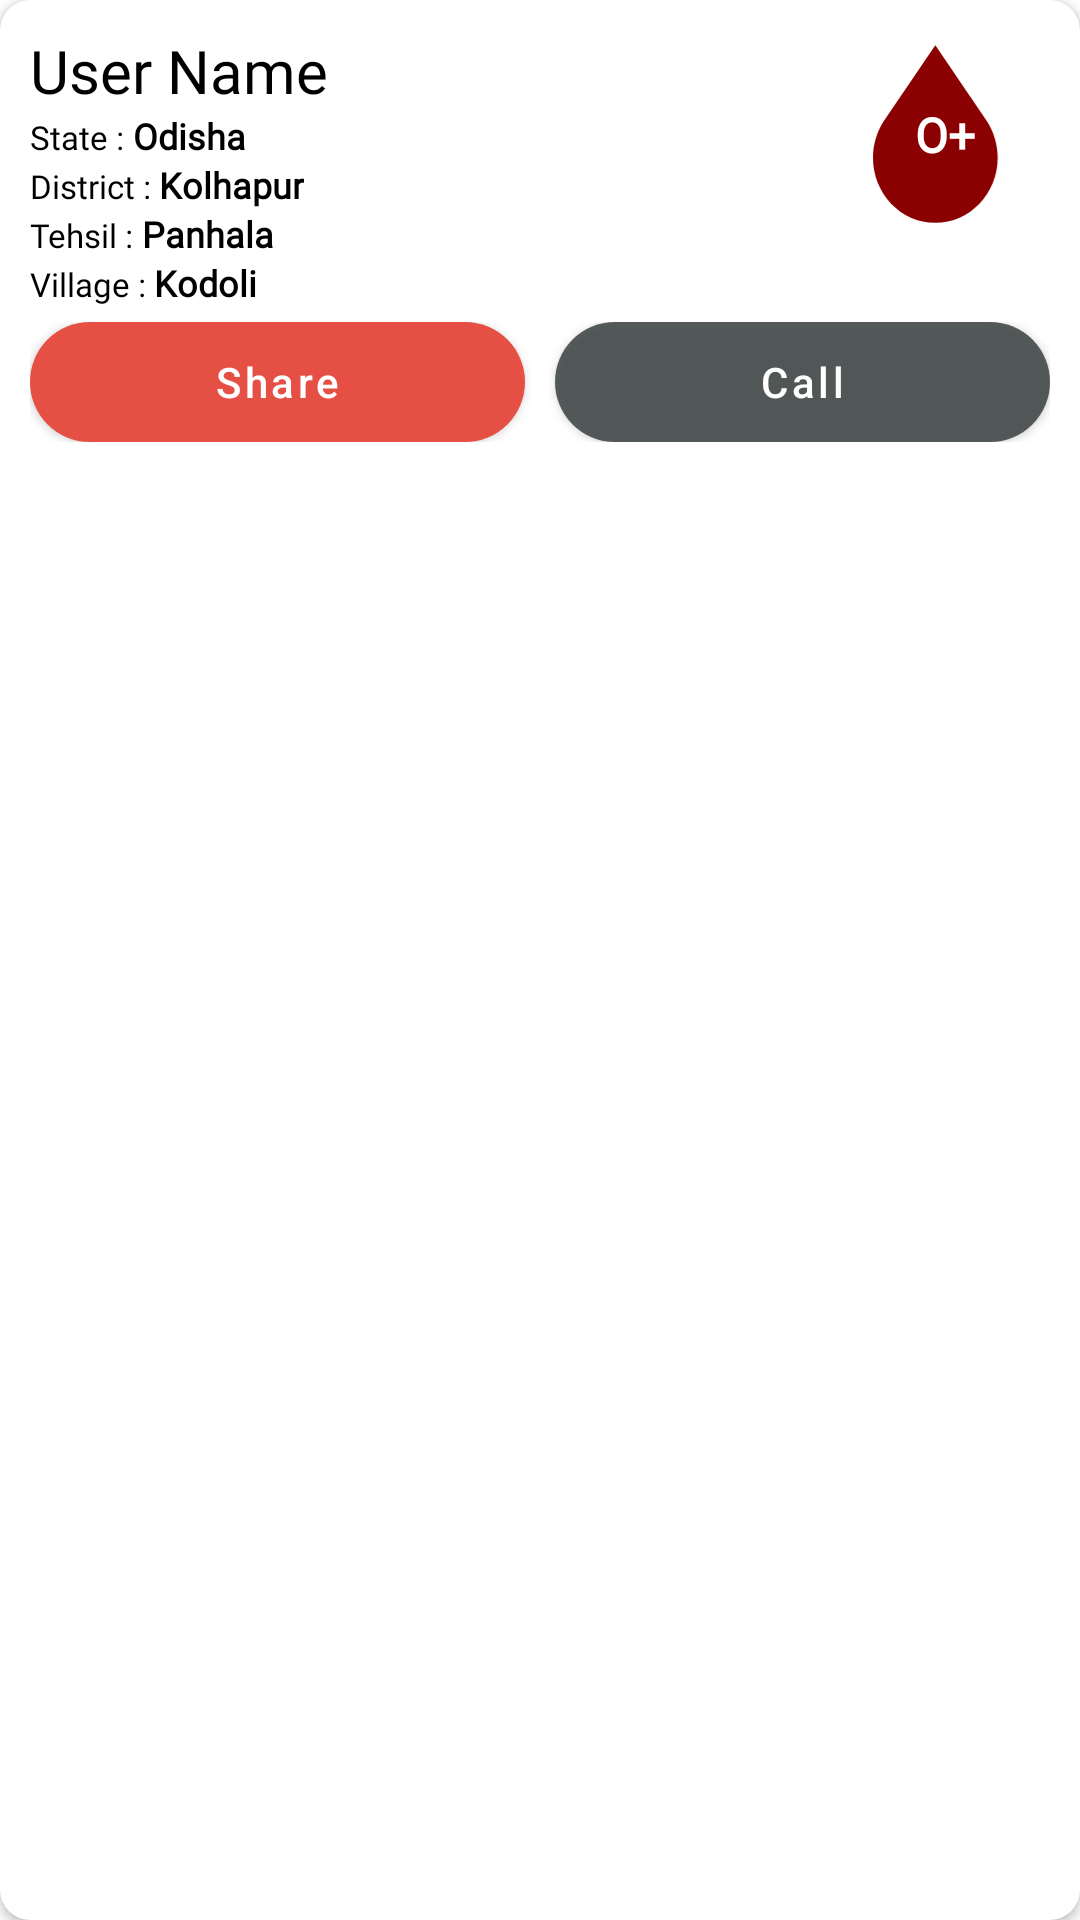

Locate icon controls on the screen. Image size 1080px×1920px, boxes as (x1=x1, y1=y1, x2=x2, y2=y2).
blood: (x1=873, y1=45, x2=998, y2=223)
